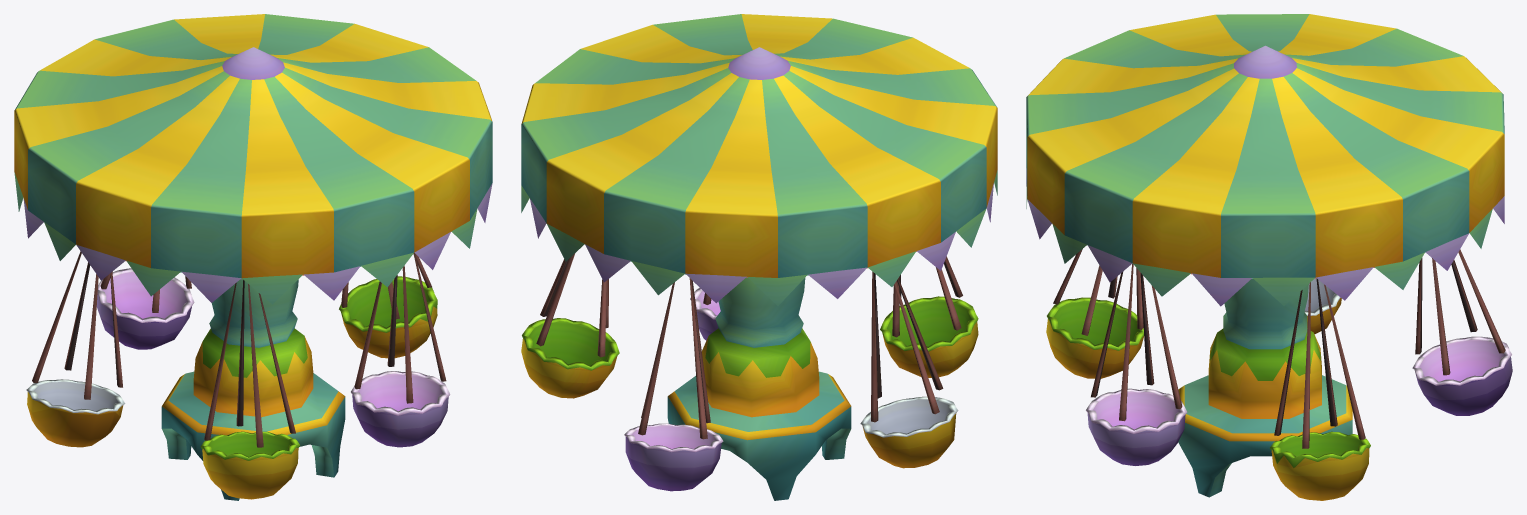
Rendered from Ferris_Wheel_Anim.fbx.
3 renders of one model, left to right at view 1: azimuth 30°, elevation 25°; view 2: azimuth 150°, elevation 25°; view 3: azimuth 270°, elevation 25°, orthographic.
Visible parts, largest first — view 1: Top, Stand; view 2: Top, Stand; view 3: Top, Stand.
Part boxes in pixels (bbox=[...]): Top: bbox=[14, 14, 492, 499]; Stand: bbox=[161, 279, 345, 500]; Top: bbox=[521, 14, 997, 491]; Stand: bbox=[667, 277, 851, 500]; Top: bbox=[1026, 14, 1512, 500]; Stand: bbox=[1178, 279, 1352, 497].
Size of the model in its own units: 195 by 190 by 198.
